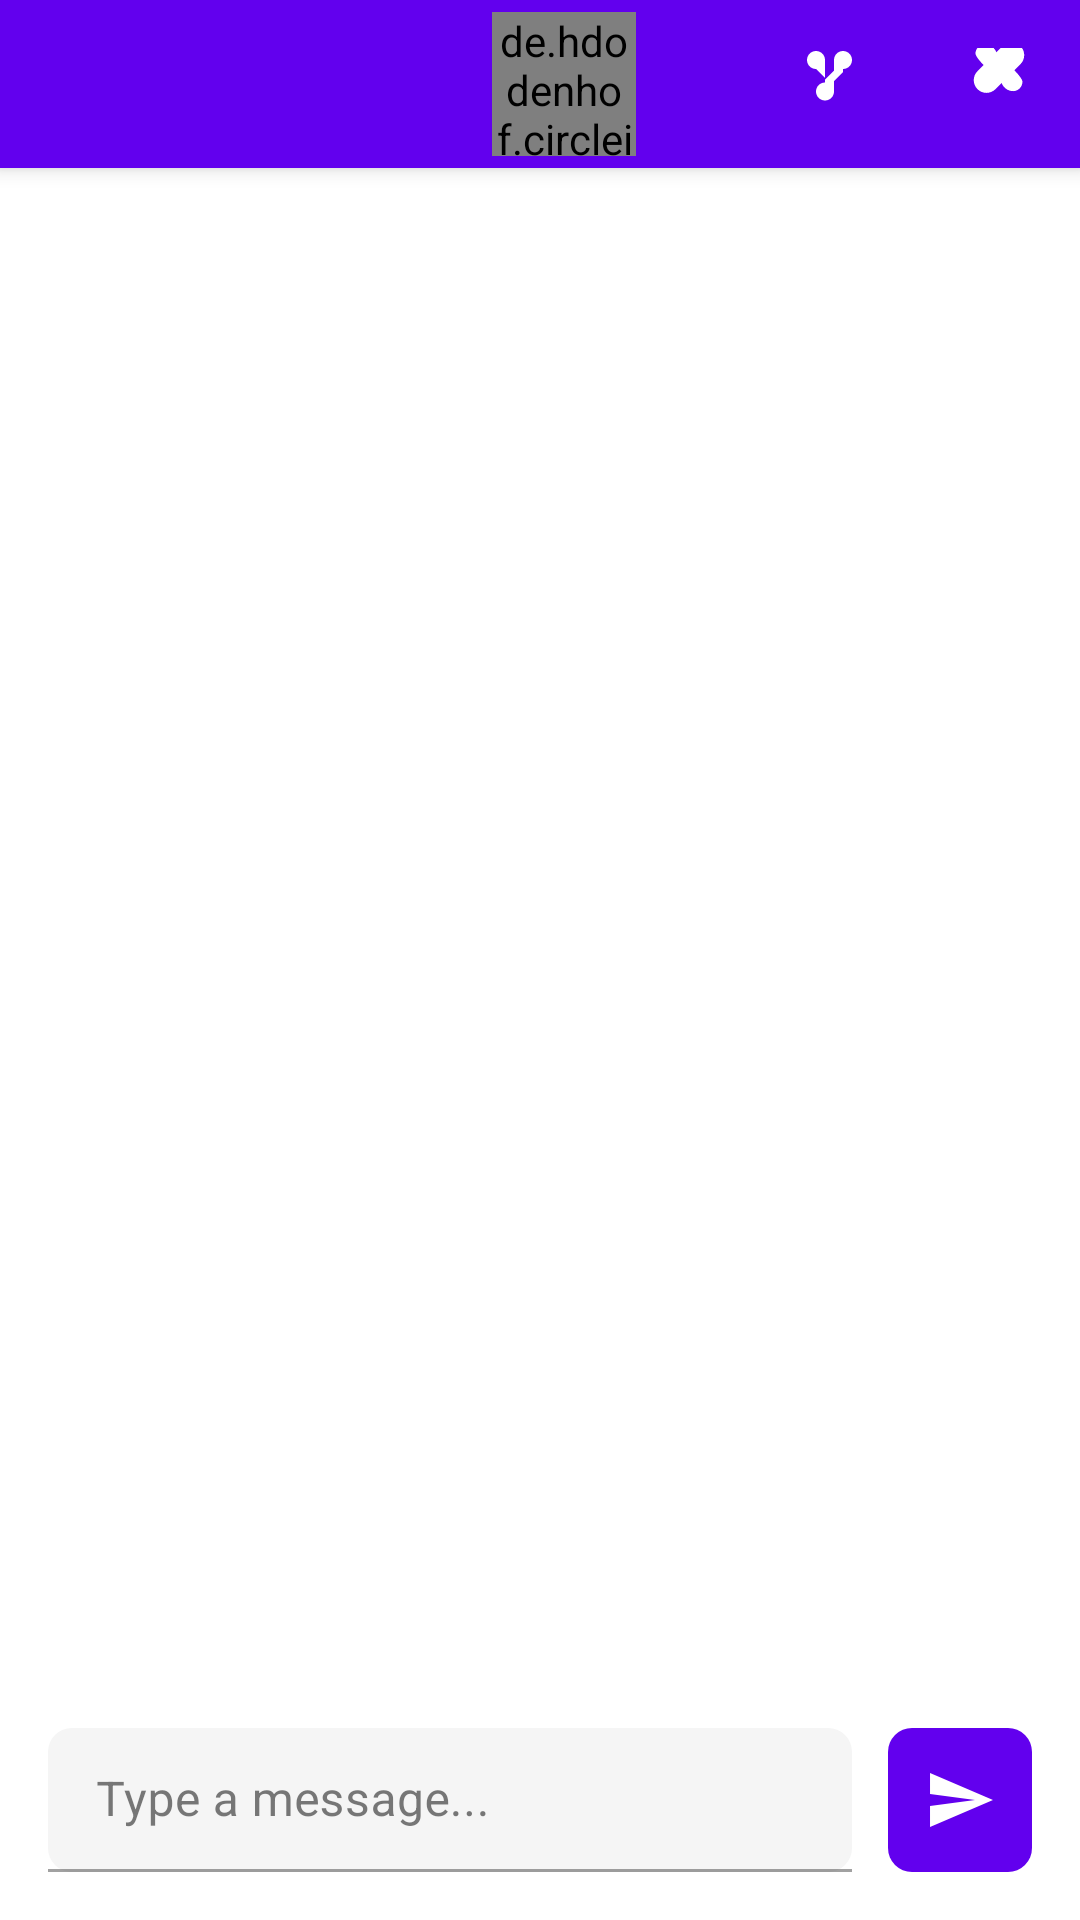

Locate icon controls on the screen. Image size 1080×1920, boxes as (x1, y1, x2, y2).
send: (888, 1728, 1032, 1872)
